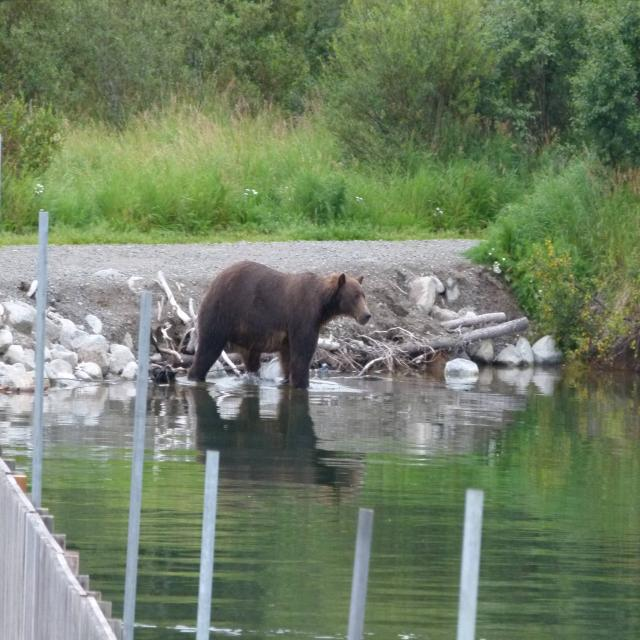bear face: (188, 263, 376, 383)
